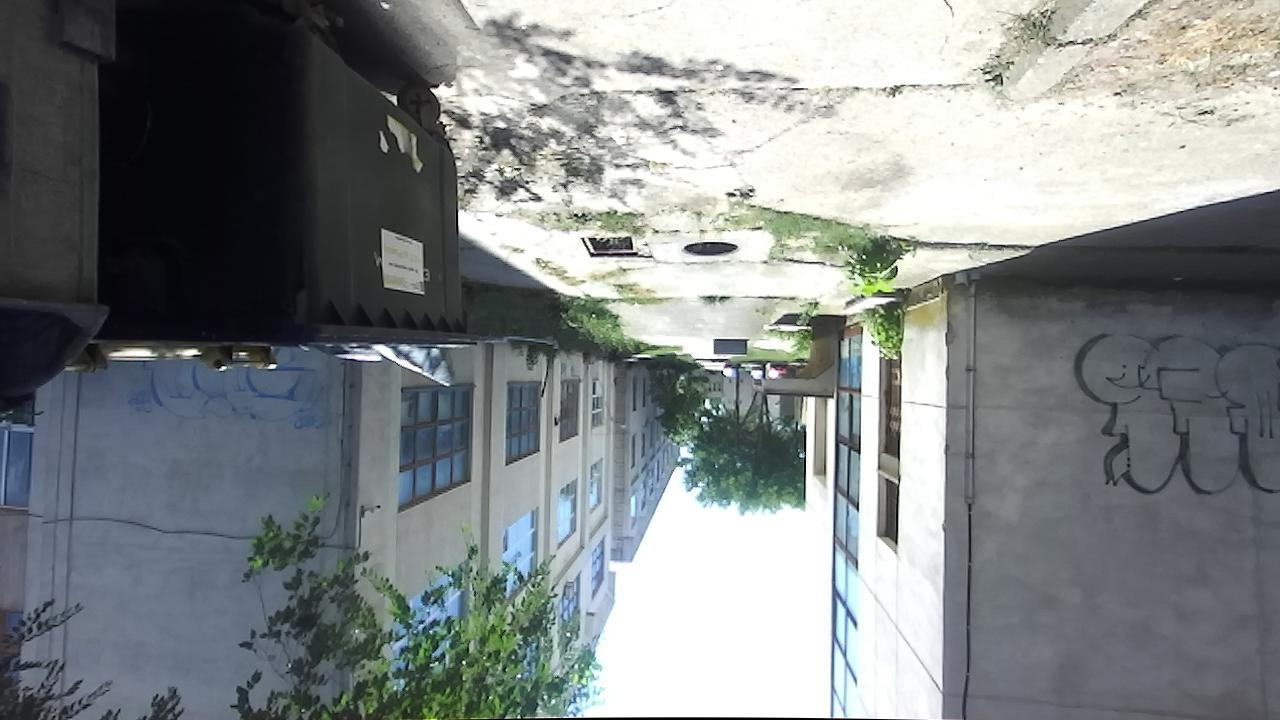drain: (574, 230, 639, 260), (678, 235, 742, 260)
